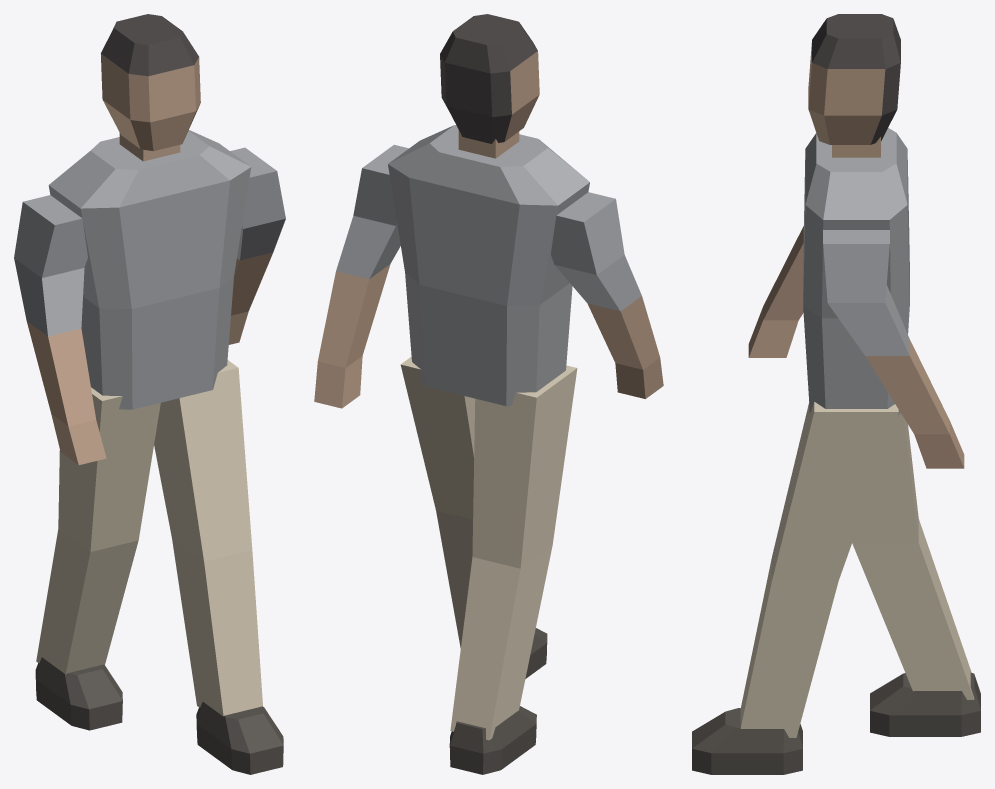
The model's file is pedestrian_2_left.fbx.
The picture shows the model from 3 angles, left to right: view 1: azimuth 30°, elevation 25°; view 2: azimuth 150°, elevation 25°; view 3: azimuth 270°, elevation 25°; orthographic projection. The views are drawn at different scales.
Visible parts, largest first — view 1: pedestrian_2_left; view 2: pedestrian_2_left; view 3: pedestrian_2_left.
Boxes of the visible parts, bbox=[...] form: pedestrian_2_left: bbox=[14, 14, 285, 774]; pedestrian_2_left: bbox=[314, 14, 663, 774]; pedestrian_2_left: bbox=[692, 14, 980, 774].
Size of the model in its own units: 0.688 by 1.78 by 0.65.
